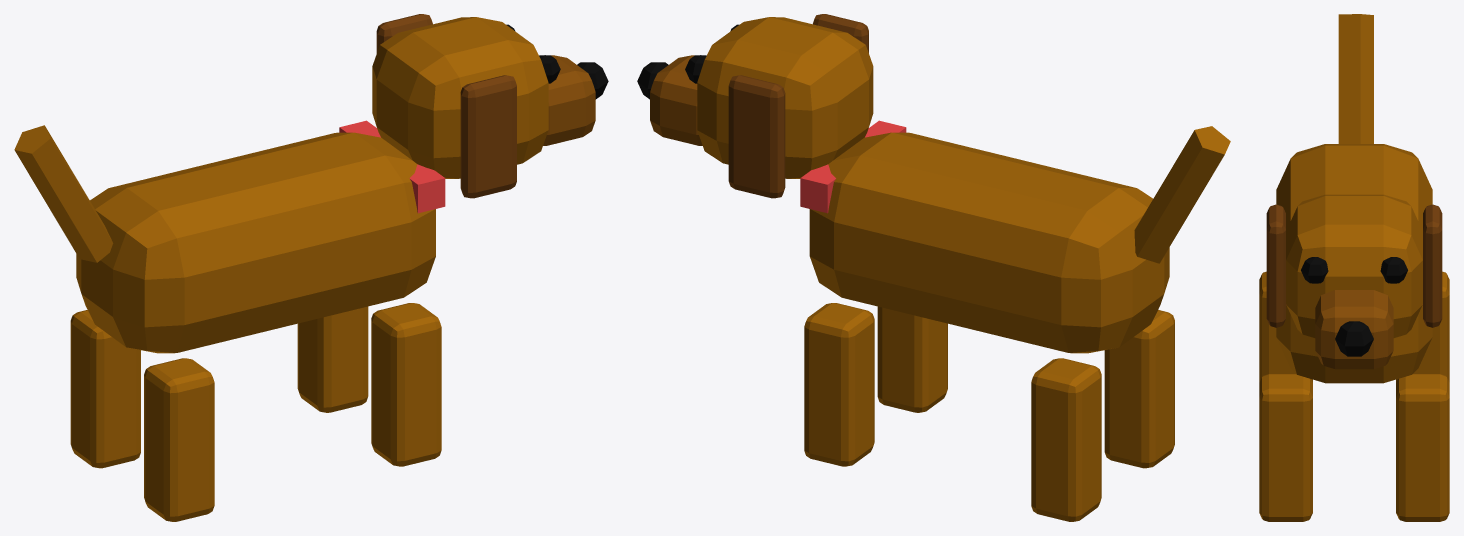
File: an-dog-DItJij4Y.glb
The picture shows the model from 3 angles, left to right: view 1: azimuth 30°, elevation 25°; view 2: azimuth 150°, elevation 25°; view 3: azimuth 270°, elevation 25°; orthographic projection. The views are drawn at different scales.
Visible parts, largest first — view 1: an-dog; view 2: an-dog; view 3: an-dog.
Part boxes in pixels (x1=…): an-dog: x1=14, y1=14, x2=608, y2=521; an-dog: x1=637, y1=14, x2=1230, y2=521; an-dog: x1=1259, y1=14, x2=1449, y2=521.
Size of the model in its own units: 0.129 by 0.08 by 0.039.
